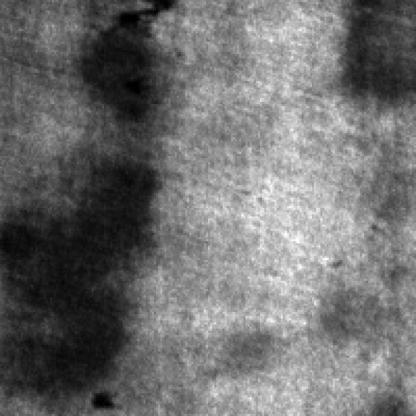patches: (4, 154, 162, 393), (88, 0, 172, 123), (341, 0, 416, 104)
